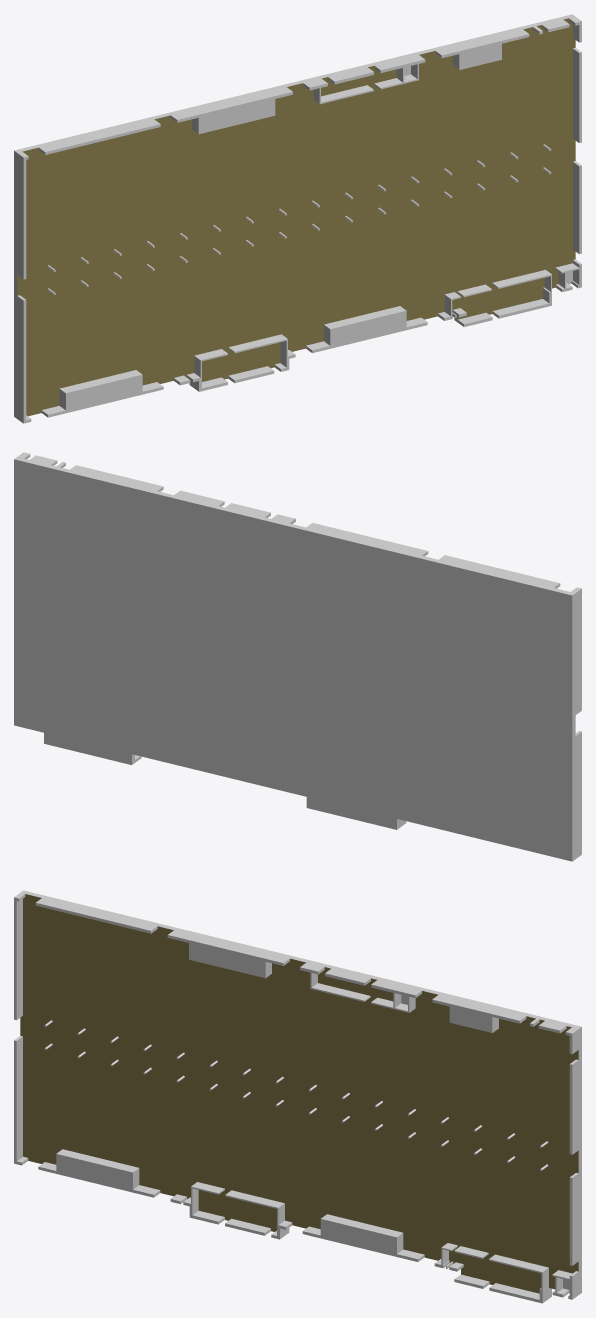
The model's file is Hall 7.gltf.
3 renders of one model, top to bottom at view 1: azimuth 30°, elevation 25°; view 2: azimuth 150°, elevation 25°; view 3: azimuth 330°, elevation 25°, orthographic.
Visible parts, largest first — view 1: Hall 7; view 2: Hall 7; view 3: Hall 7.
Boxes of the visible parts, x1,y1,x2,y2 form: Hall 7: [14, 14, 581, 423]; Hall 7: [14, 452, 581, 861]; Hall 7: [14, 890, 581, 1303].
Size of the model in its own units: 202 by 95.85 by 6.
